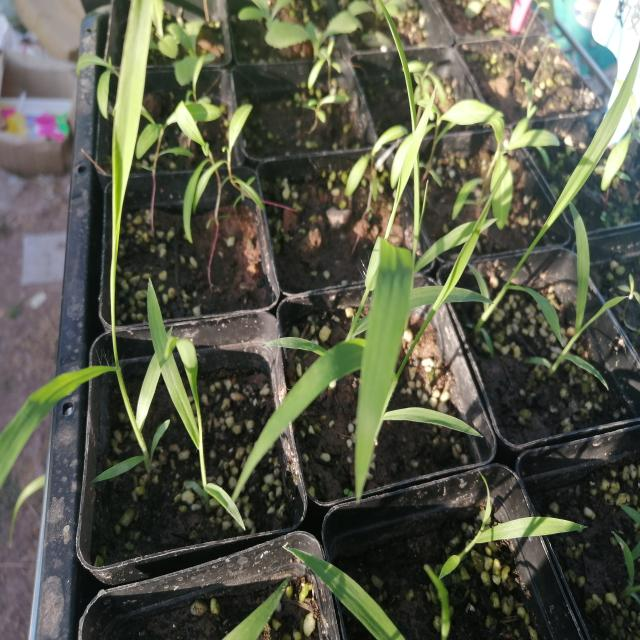crabgrass: (272, 169, 516, 474), (128, 307, 286, 502)
